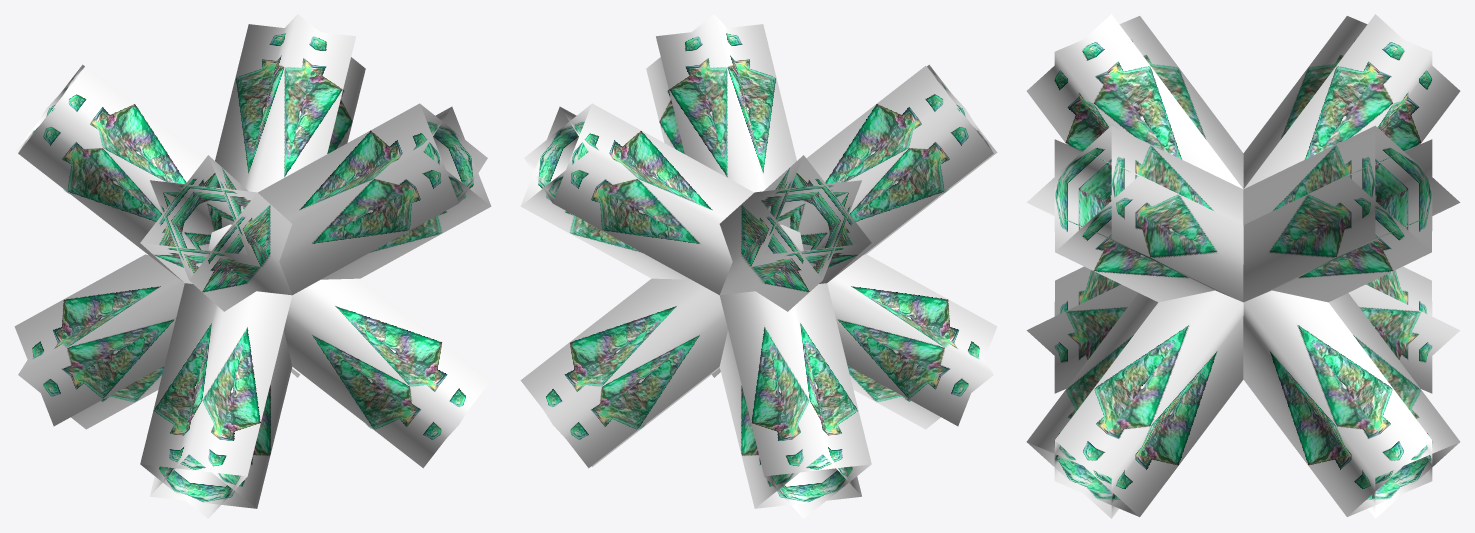
The model's file is StarHexahemioctacron4.gltf.
3 renders of one model, left to right at view 1: azimuth 30°, elevation 25°; view 2: azimuth 150°, elevation 25°; view 3: azimuth 270°, elevation 25°, orthographic. The views are drawn at different scales.
Parts seen in each view (by area): view 1: StarHexahemioctacron; view 2: StarHexahemioctacron; view 3: StarHexahemioctacron.
Part boxes in pixels (x1,y1,x2,y2): StarHexahemioctacron: (14,14,491,518); StarHexahemioctacron: (520,14,997,518); StarHexahemioctacron: (1026,14,1460,518).
Size of the model in its own units: 6.25 by 6.25 by 6.25.
Materials: 1 (1 with a texture image).
